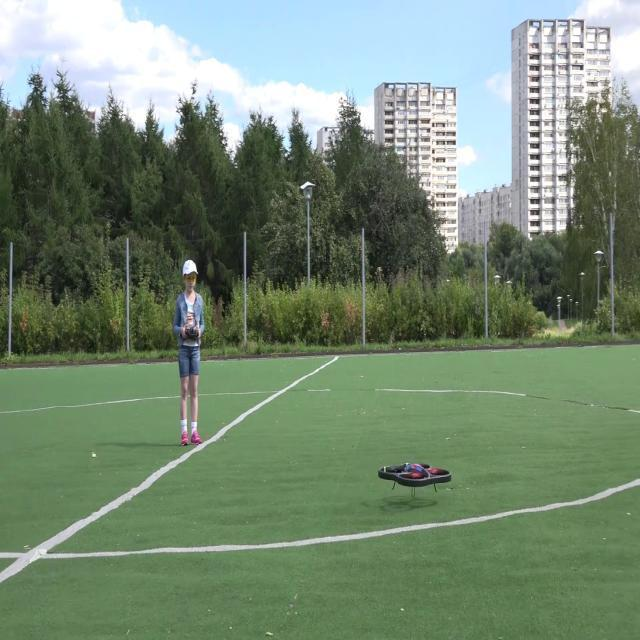Drons: (374, 449, 454, 501)
